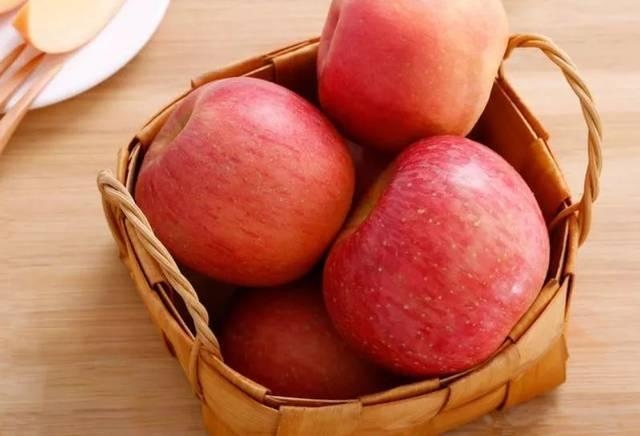apple: (333, 137, 570, 381), (121, 77, 356, 290), (315, 1, 501, 150)
